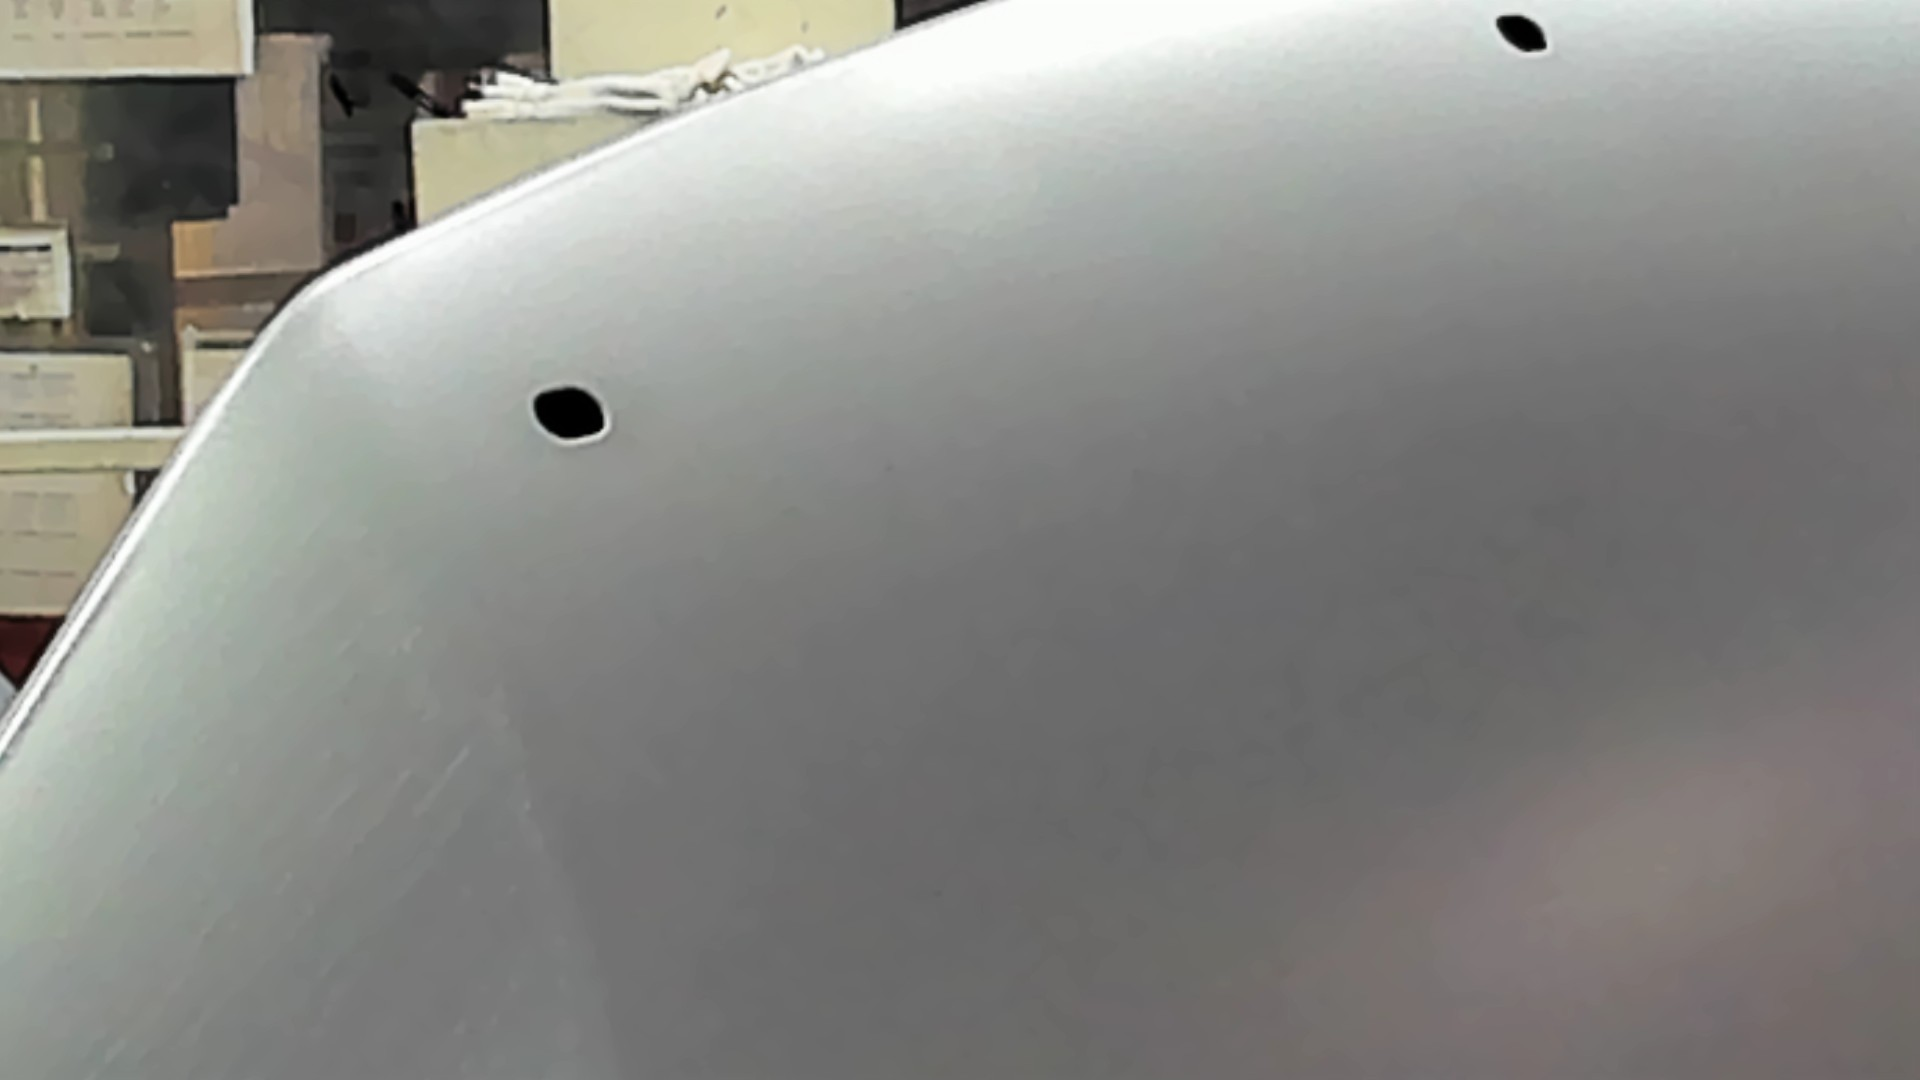amorfo: (527, 382, 615, 444), (1489, 8, 1553, 58)
